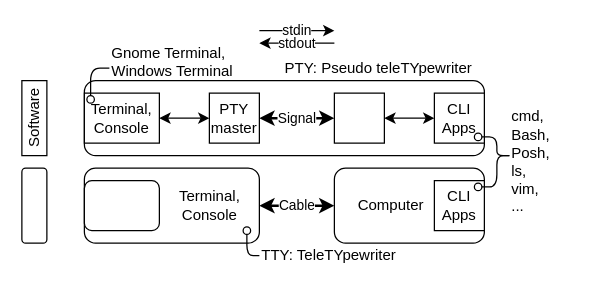
The diagram is 594 pixels wide and 290 high, and some of its shapes have lost their labels. The shapes that lost their labels are listed below. From the top down, each one's box as (x1, y1, x2, y2) in pixels, then its label:
(333, 92, 384, 143): PTY slave
(21, 167, 47, 243): Hardware
(83, 179, 159, 231): Buffer, Display
